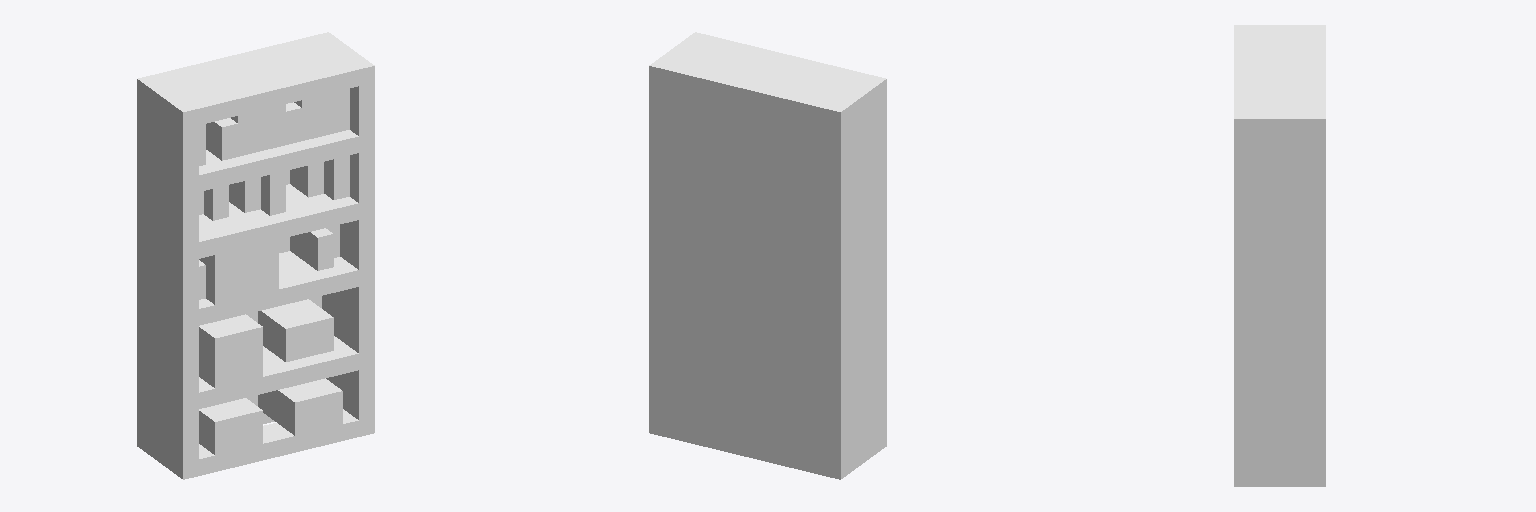
The model's file is Billy02.obj.
The picture shows the model from 3 angles: view 1: azimuth 30°, elevation 25°; view 2: azimuth 150°, elevation 25°; view 3: azimuth 270°, elevation 25°; orthographic projection.
Visible parts, largest first — view 1: object 1; view 2: object 1; view 3: object 1.
Boxes of the visible parts, x1=… form: object 1: x1=137, y1=32, x2=374, y2=479; object 1: x1=649, y1=32, x2=886, y2=479; object 1: x1=1234, y1=25, x2=1325, y2=486.
Size of the model in its own units: 1.2 by 2.2 by 0.5.